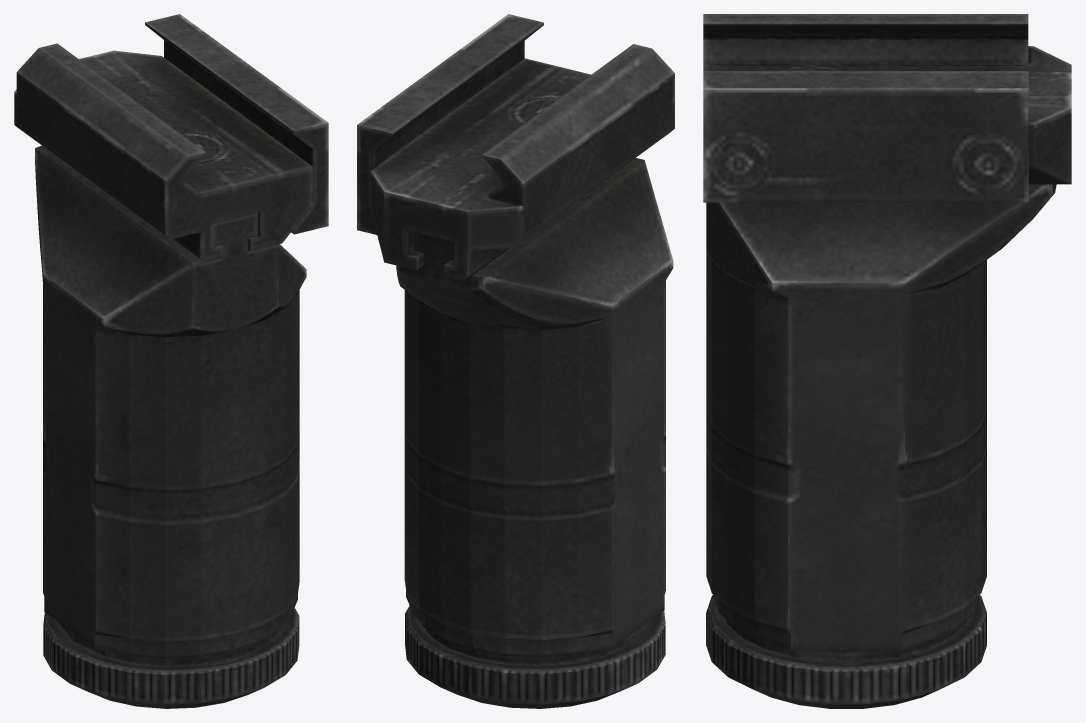
The picture shows the model from 3 angles, left to right: view 1: azimuth 30°, elevation 25°; view 2: azimuth 150°, elevation 25°; view 3: azimuth 270°, elevation 25°; orthographic projection. The views are drawn at different scales.
Parts seen in each view (by area): view 1: TW_5c1bc4812e22164bef5cfde7_PZ_Import; view 2: TW_5c1bc4812e22164bef5cfde7_PZ_Import; view 3: TW_5c1bc4812e22164bef5cfde7_PZ_Import.
Boxes of the visible parts, bbox=[...] form: TW_5c1bc4812e22164bef5cfde7_PZ_Import: bbox=[14, 14, 328, 708]; TW_5c1bc4812e22164bef5cfde7_PZ_Import: bbox=[357, 14, 674, 708]; TW_5c1bc4812e22164bef5cfde7_PZ_Import: bbox=[703, 14, 1071, 708].
Size of the model in its own units: 0.0209 by 0.0277 by 0.0514.
1 material, 1 textured.
